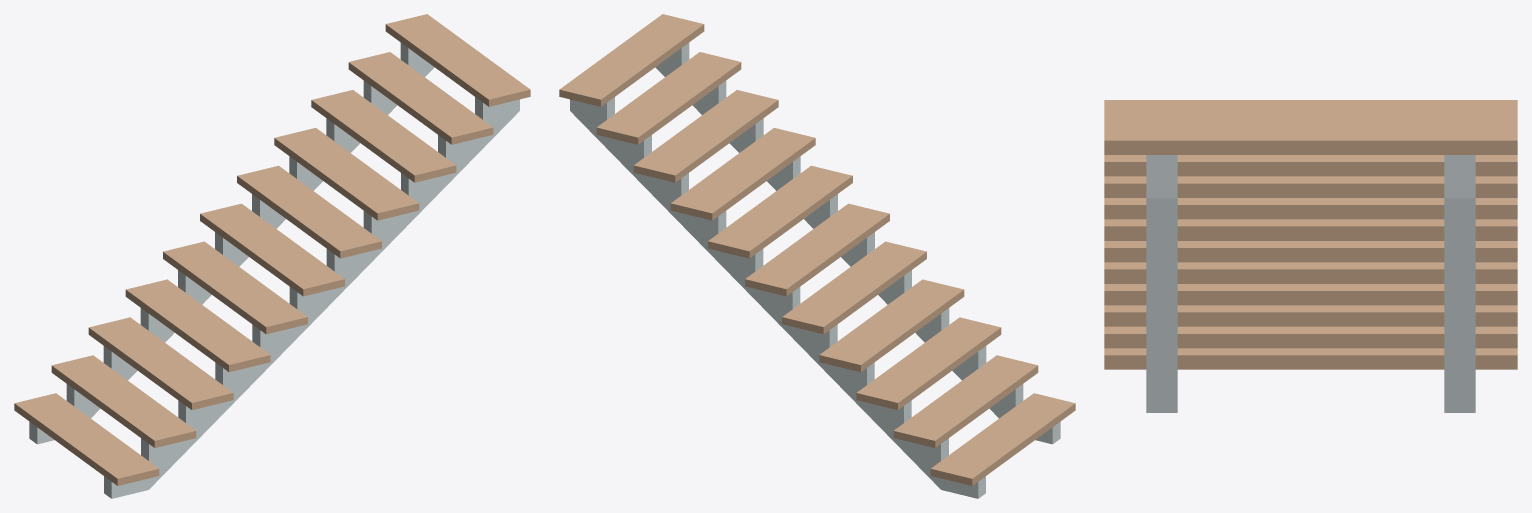
Rendered from k_stairsOpen.glb.
3 views of the same model, side by side, from view 1: azimuth 30°, elevation 25°; view 2: azimuth 150°, elevation 25°; view 3: azimuth 270°, elevation 25° (orthographic). The views are drawn at different scales.
Parts seen in each view (by area): view 1: stairsOpen(Clone), Group; view 2: stairsOpen(Clone), Group; view 3: stairsOpen(Clone), Group.
Boxes of the visible parts, bbox=[...] form: stairsOpen(Clone): bbox=[14, 14, 530, 485]; Group: bbox=[29, 43, 519, 498]; stairsOpen(Clone): bbox=[559, 14, 1075, 485]; Group: bbox=[570, 43, 1060, 498]; stairsOpen(Clone): bbox=[1104, 100, 1517, 369]; Group: bbox=[1146, 155, 1475, 412].
Size of the model in its own units: 3.32 by 2.44 by 1.44.
